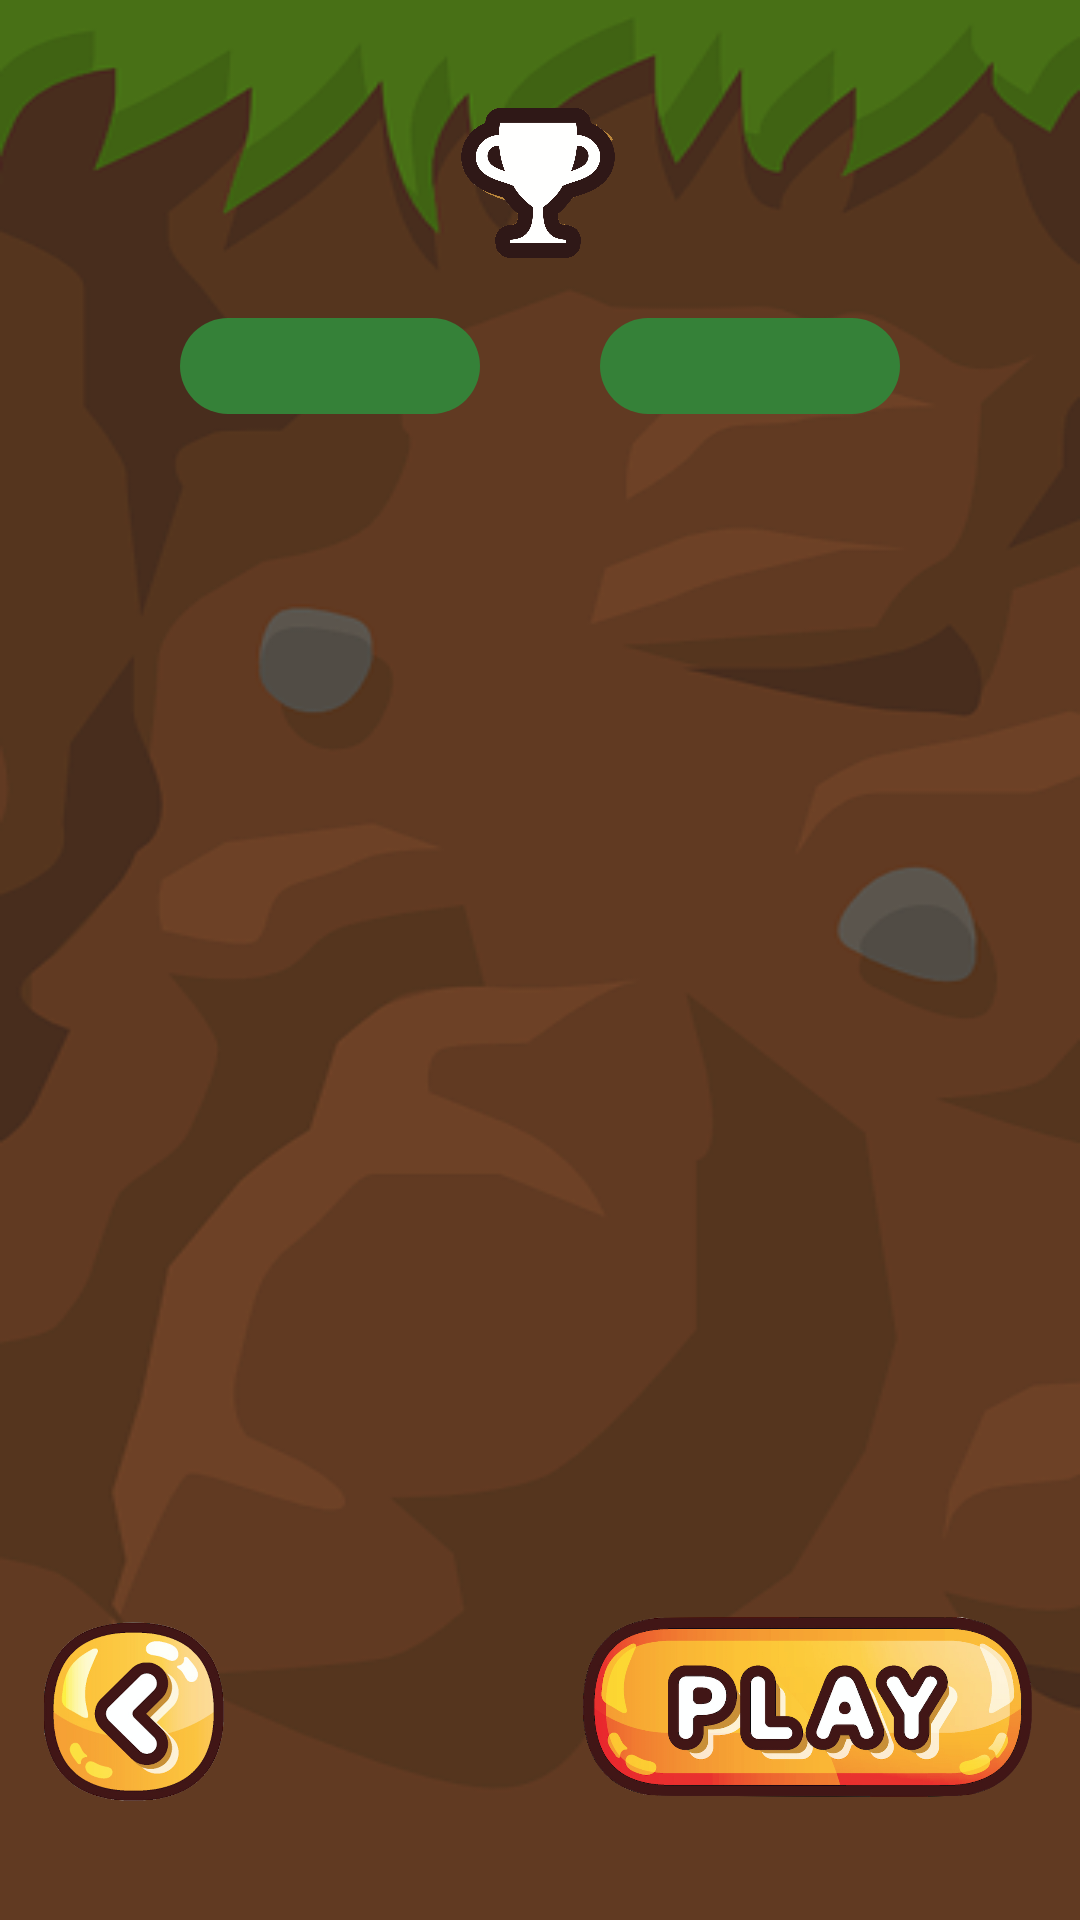

Point at icon controls on the screen. Image size 1080 × 1920, points as (x,y).
back: (134,1711)
highscore: (531,183)
